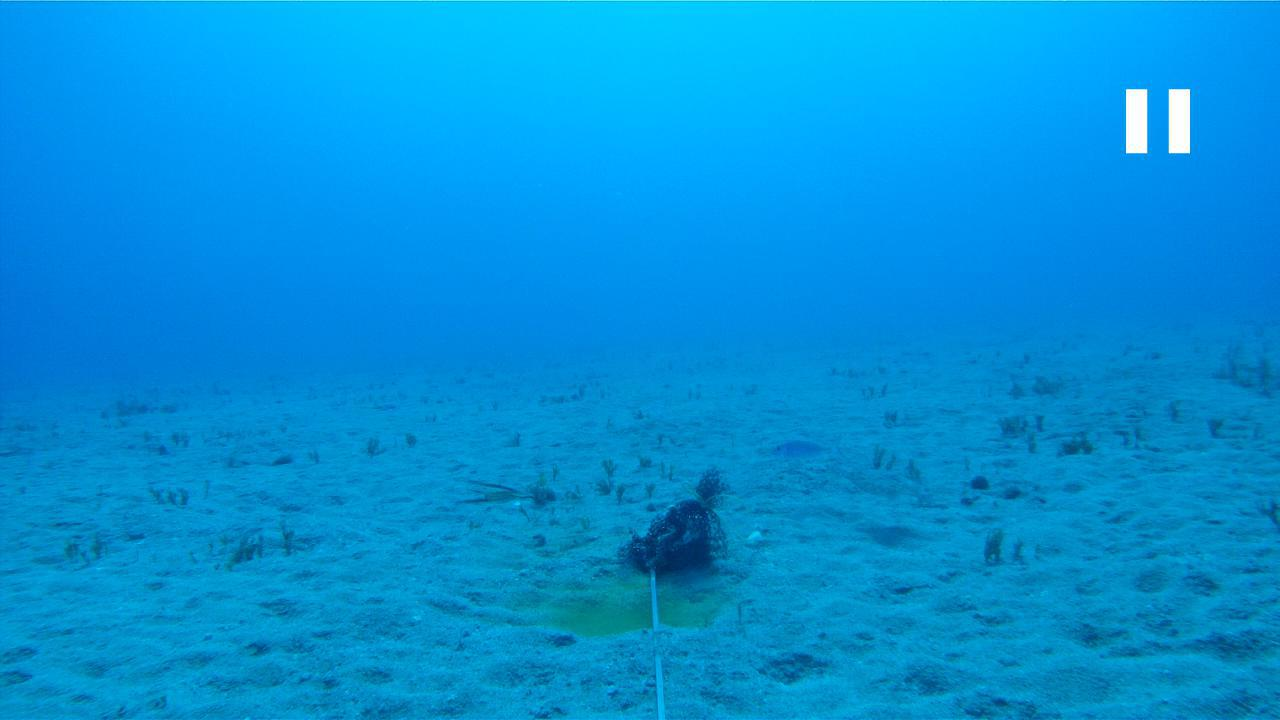bothus: (842, 465, 936, 500)
